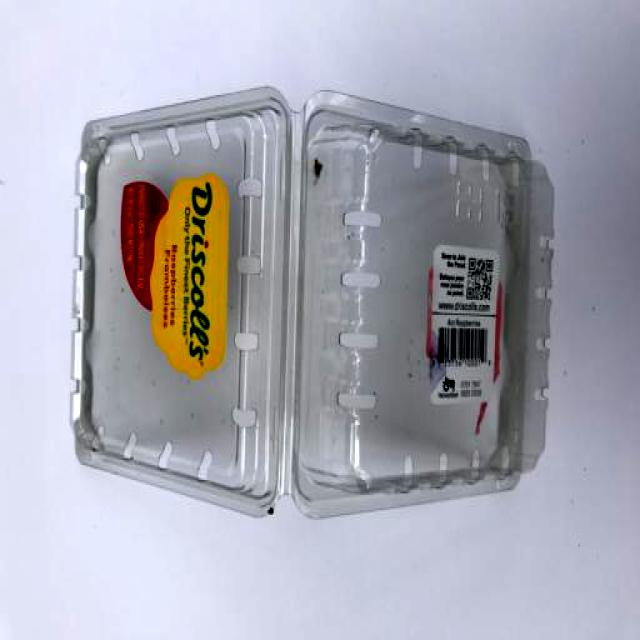Plastic: (59, 86, 561, 525)
